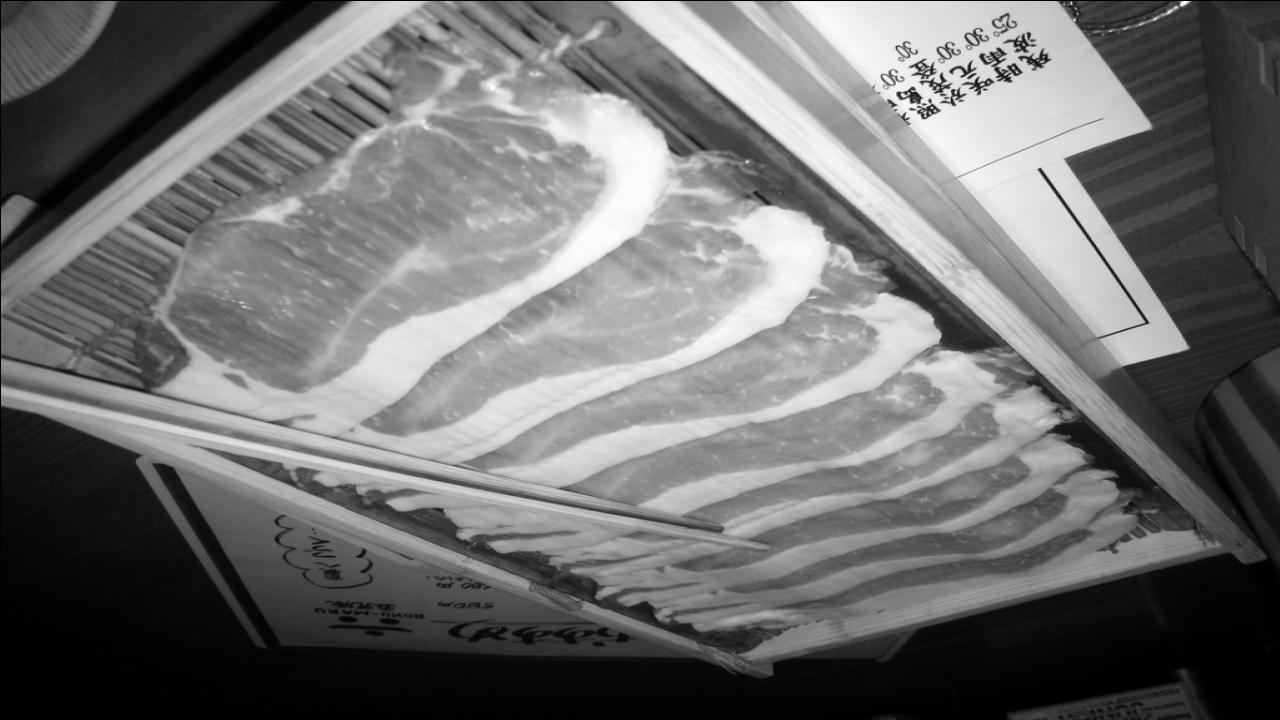chopstick: (0, 351, 764, 551)
